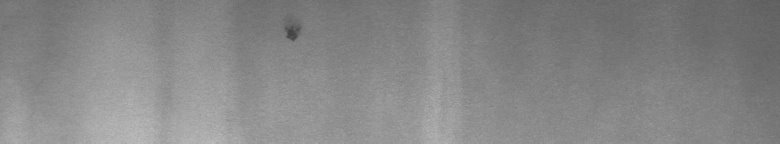fi: (281, 24, 304, 48)
